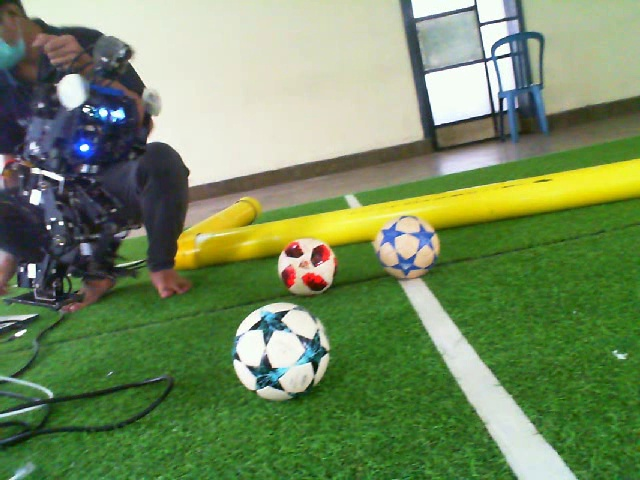ball: (229, 300, 333, 406), (371, 213, 443, 283), (275, 236, 339, 299)
